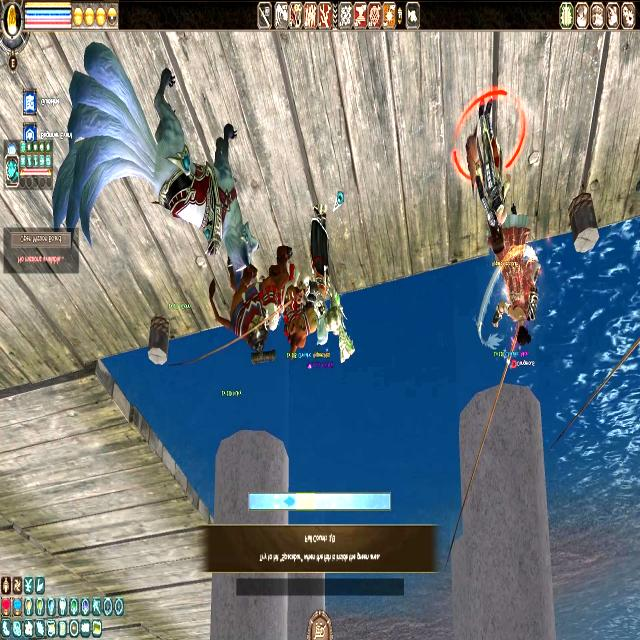fishes: (282, 493, 296, 509)
